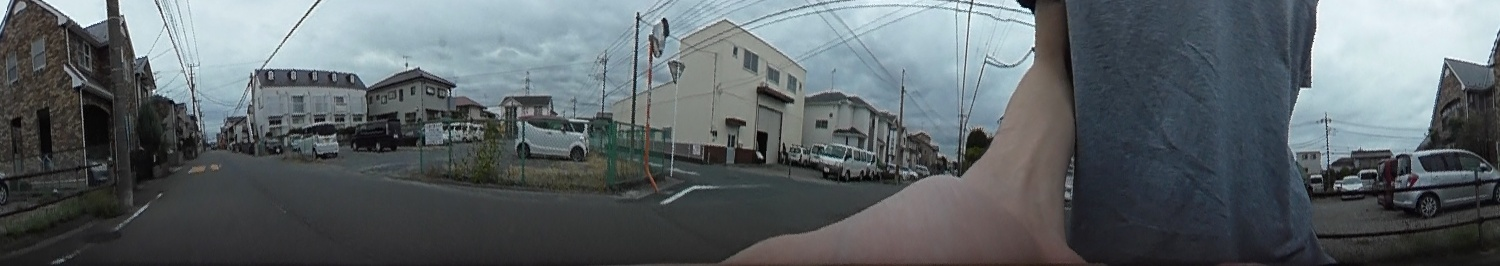difficult_person: (778, 140, 787, 163)
